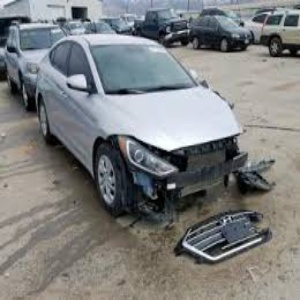bumper: (128, 138, 265, 213)
